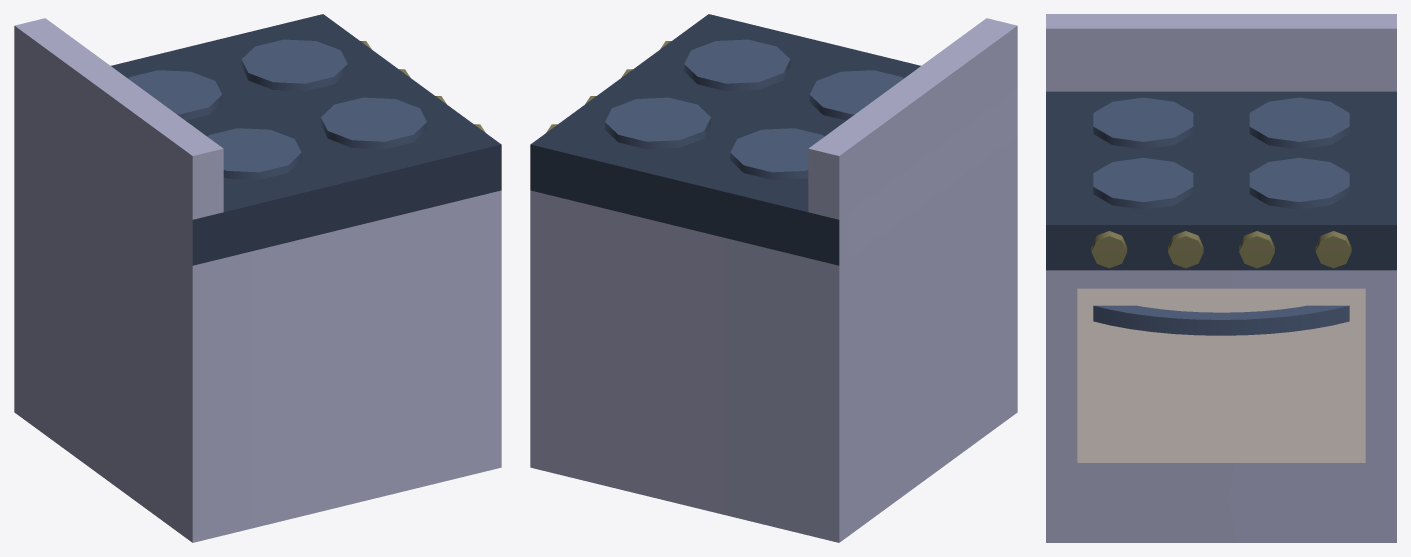
File: _tove.fbx
The picture shows the model from 3 angles, left to right: view 1: azimuth 30°, elevation 25°; view 2: azimuth 150°, elevation 25°; view 3: azimuth 270°, elevation 25°; orthographic projection.
Visible parts, largest first — view 1: Stove; view 2: Stove; view 3: Stove.
Part boxes in pixels (bbox=[...]): Stove: bbox=[14, 14, 501, 542]; Stove: bbox=[530, 14, 1017, 542]; Stove: bbox=[1046, 14, 1396, 542].
Size of the model in its own units: 0.0251 by 0.0274 by 0.0229.
